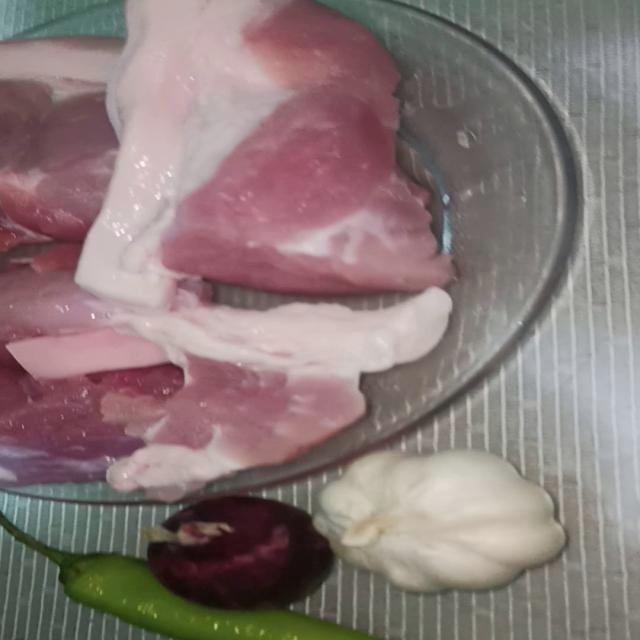chili_pepper: (0, 495, 427, 640)
garlic: (323, 430, 539, 612)
onion: (127, 485, 344, 617)
pork: (80, 10, 418, 297), (0, 290, 465, 485), (0, 21, 136, 246), (0, 260, 231, 342)
